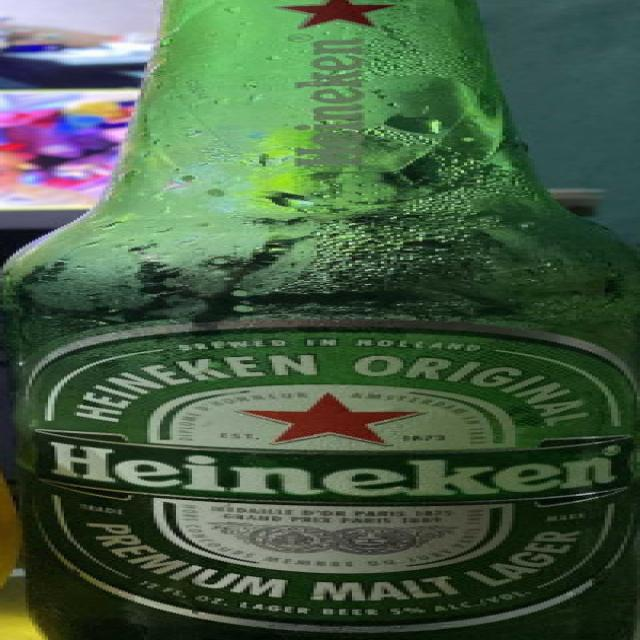Heineken 0.0: (3, 0, 640, 640)
